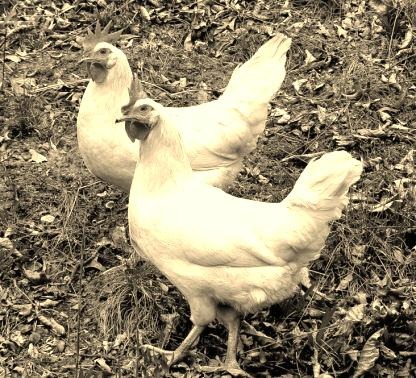Healthy: (112, 71, 361, 364)
